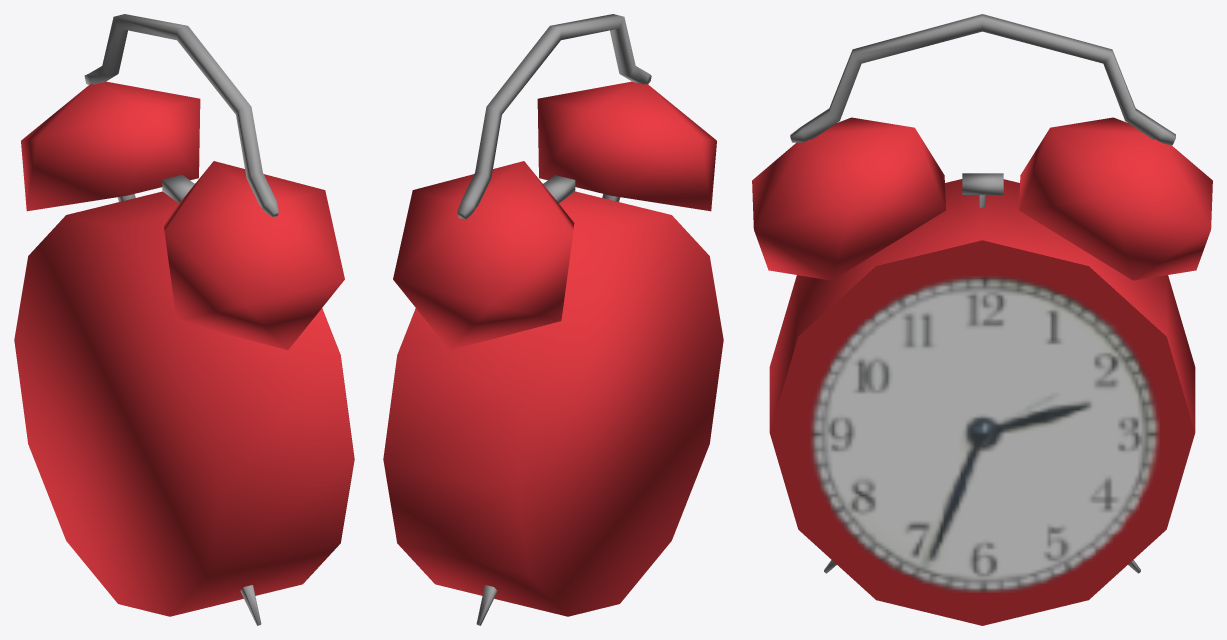
File: alarm_clock.glb
3 renders of one model, left to right at view 1: azimuth 30°, elevation 25°; view 2: azimuth 150°, elevation 25°; view 3: azimuth 270°, elevation 25°, orthographic. The views are drawn at different scales.
Visible parts, largest first — view 1: alarm; view 2: alarm; view 3: alarm.002, alarm.
Part boxes in pixels (x1,y1,x2,y2): alarm: (14,14,354,625); alarm: (383,14,723,625); alarm.002: (770,240,1194,625); alarm: (752,14,1212,573).
Bounding box in the file's own units: 0.9067 × 2.98 × 2.17.
3 materials, 1 textured.
